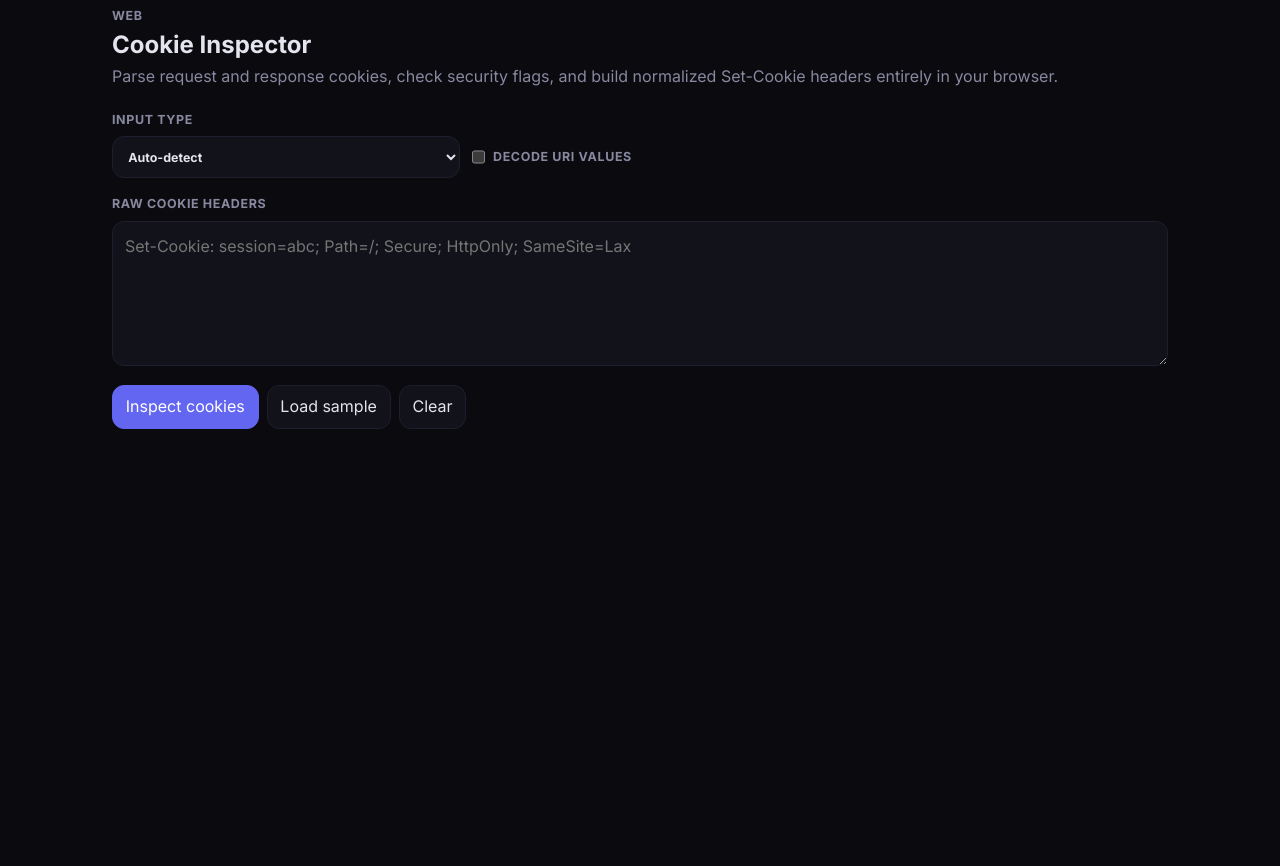
Test case: CookieTool › shows parse and serialization failures as alerts
Replace the text in the text box named "Raw cookie header input" with "Set-Cookie: malformed" at (640, 293), box left=112, top=221, right=1168, bottom=366
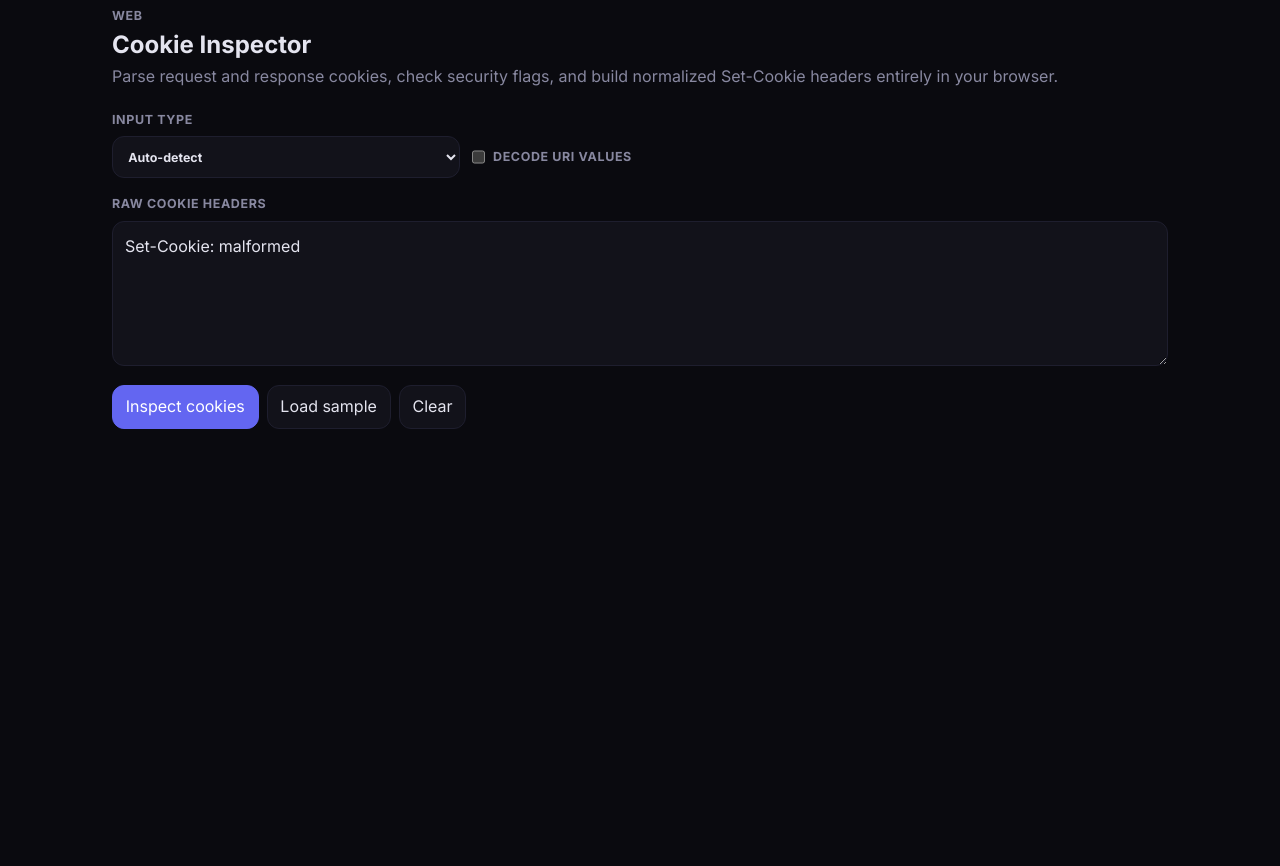
Click the button "Inspect cookies" at (185, 407), box left=112, top=385, right=258, bottom=429
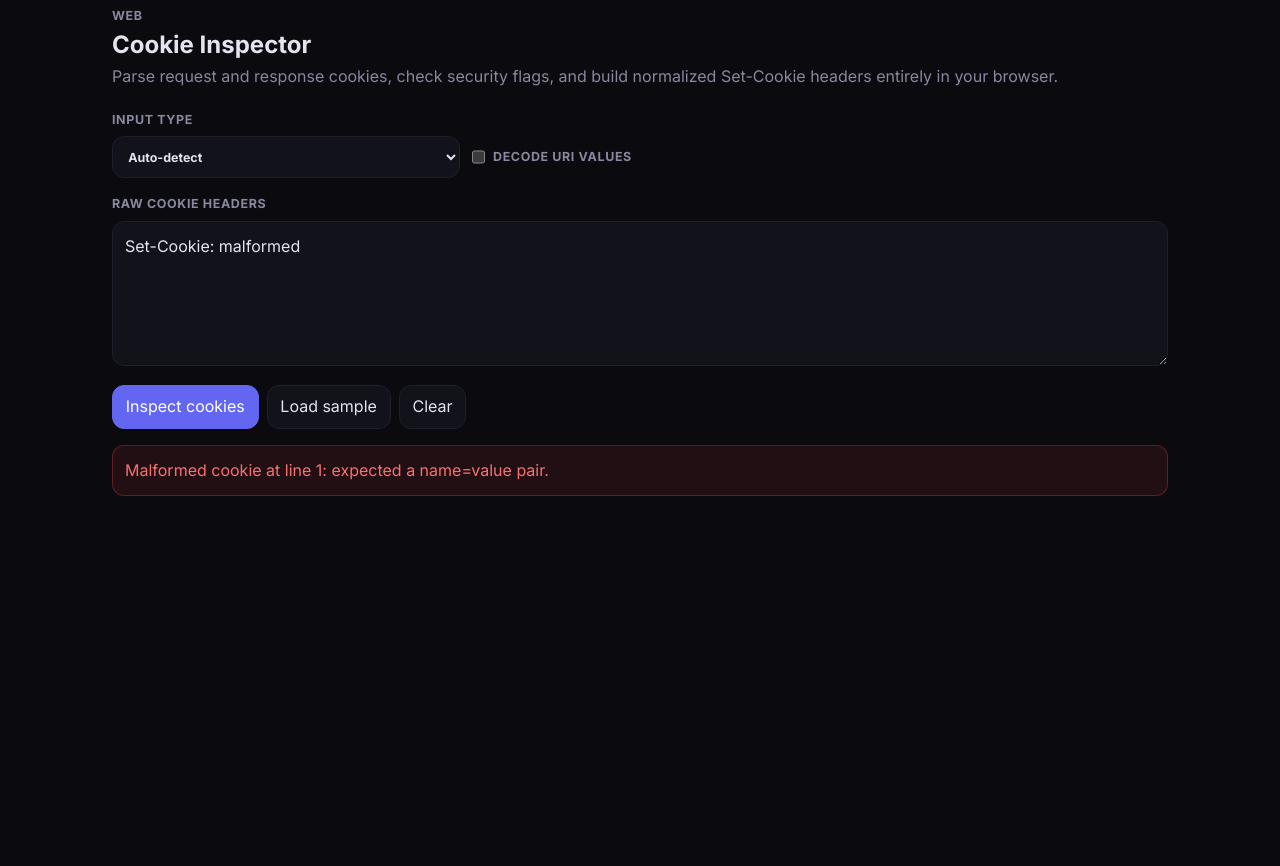
Expected: the message shows "name=value", left=125, top=460, right=549, bottom=480
Replace the text in the text box named "Raw cookie header input" with "Set-Cookie: valid=1; Path=/" at (640, 293), box left=112, top=221, right=1168, bottom=366
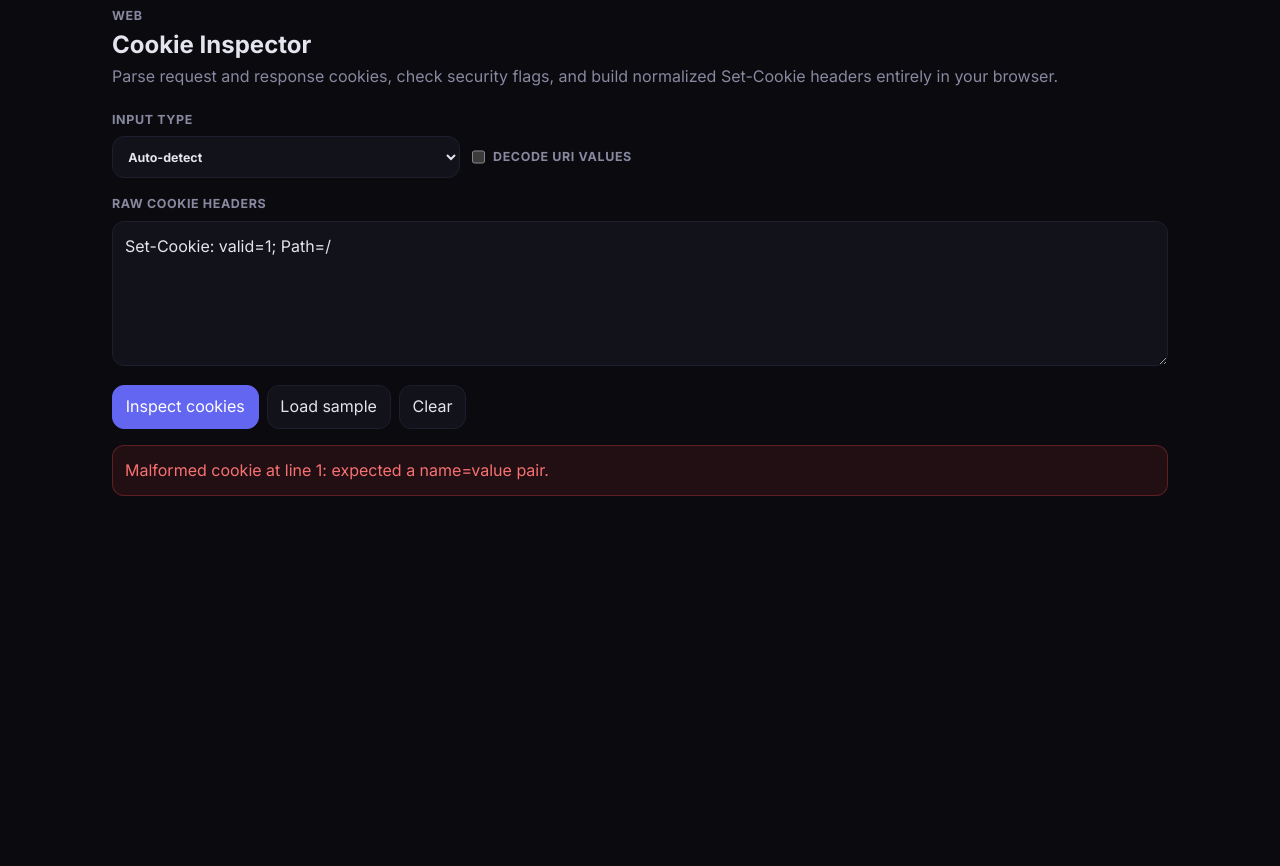
Click the button "Inspect cookies" at (185, 407), box left=112, top=385, right=258, bottom=429
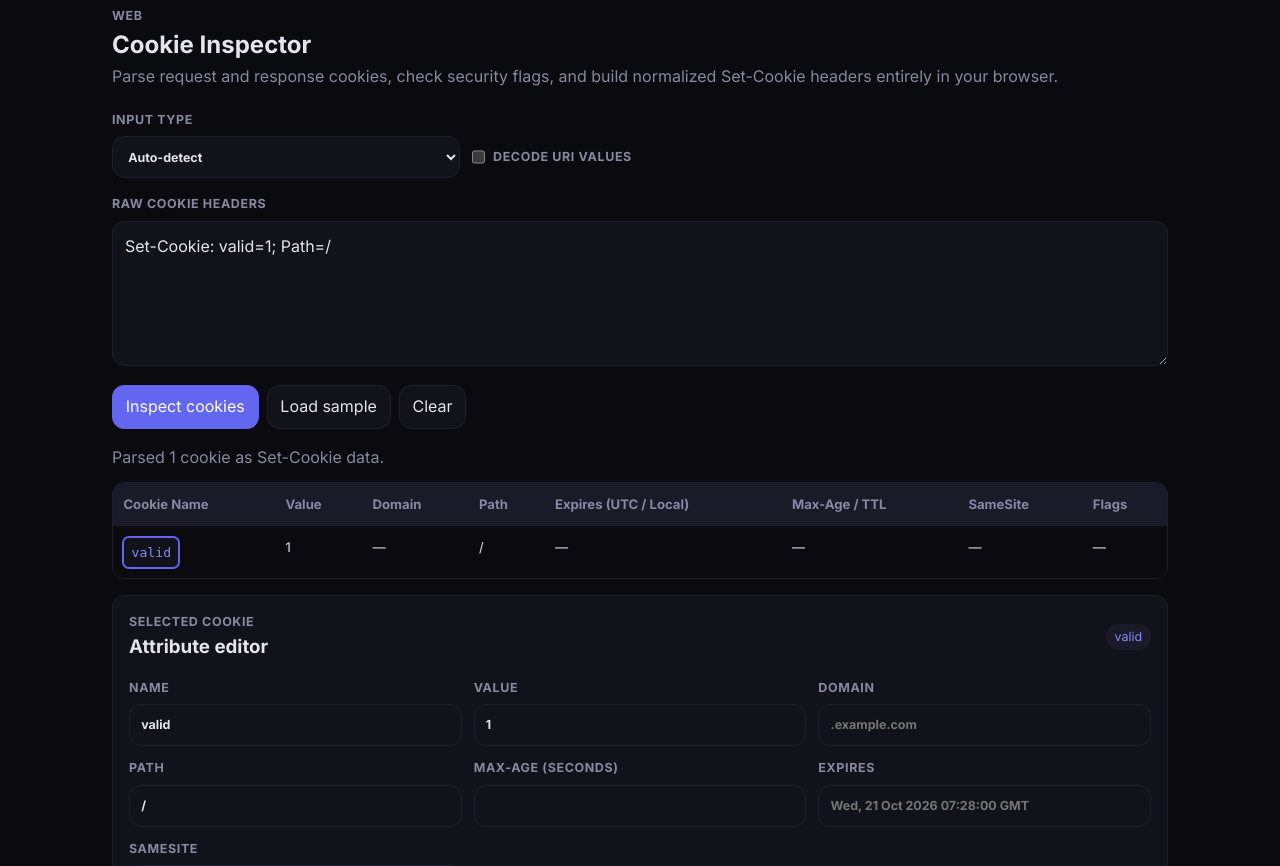
Replace the text in the field named "Cookie name" with "bad name" at (295, 725), box left=129, top=704, right=462, bottom=746
(page scrolled)
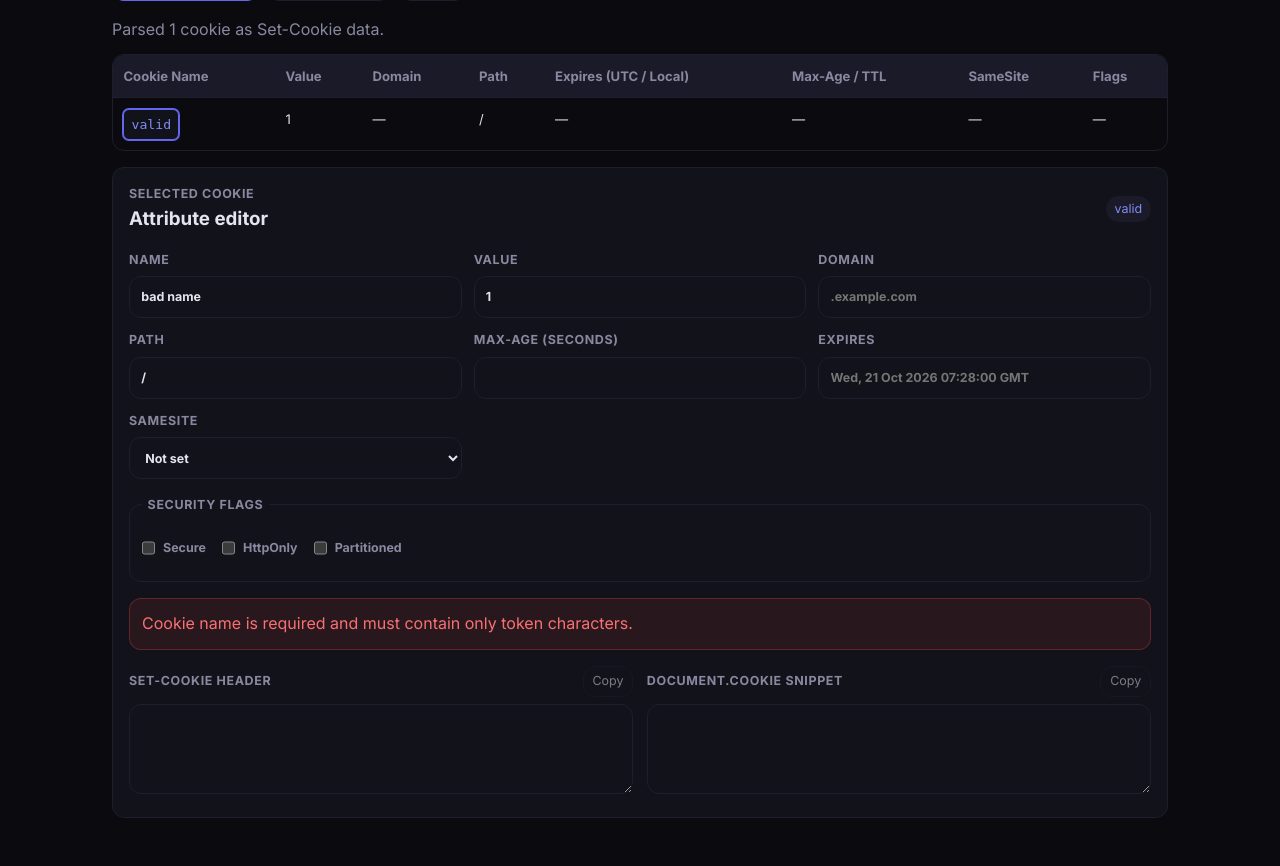
Expected: the message "Cookie name is required and must contain only token characters." is shown, left=129, top=598, right=1151, bottom=650
